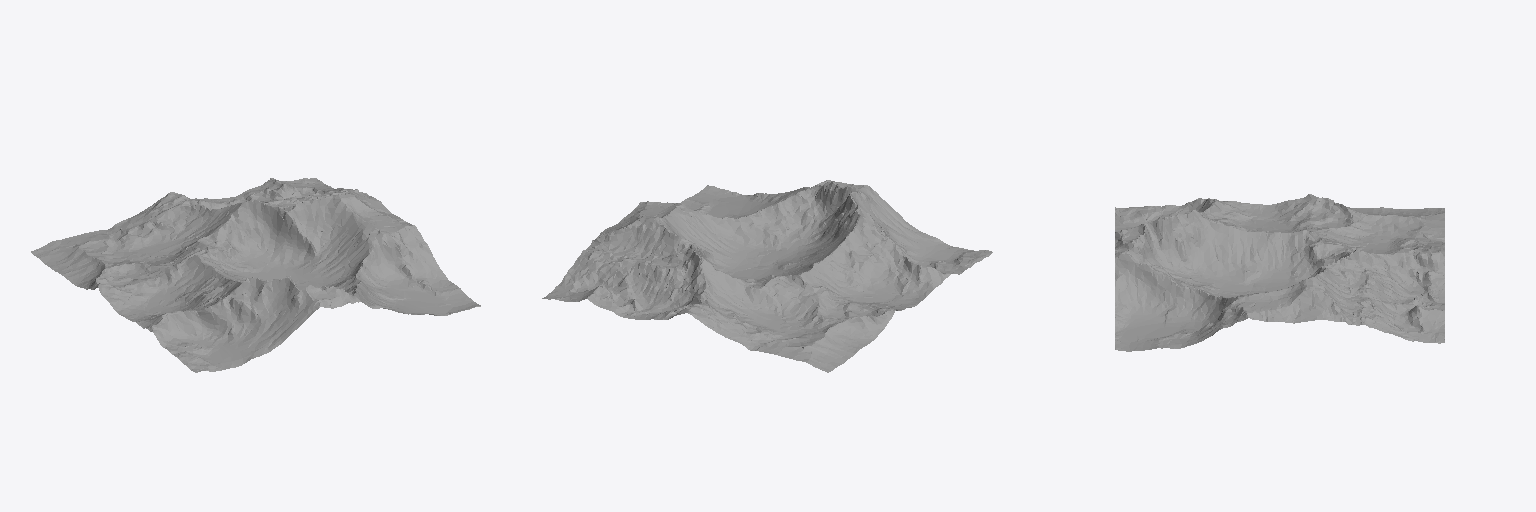
Rendered from terrain0.obj.
The picture shows the model from 3 angles: view 1: azimuth 30°, elevation 25°; view 2: azimuth 150°, elevation 25°; view 3: azimuth 270°, elevation 25°; orthographic projection.
Visible parts, largest first — view 1: terrain_8842eed260aa4dad81773d51ca9066fb; view 2: terrain_8842eed260aa4dad81773d51ca9066fb; view 3: terrain_8842eed260aa4dad81773d51ca9066fb.
Part boxes in pixels (left/top/right/bottom): terrain_8842eed260aa4dad81773d51ca9066fb: left=31, top=178, right=480, bottom=372; terrain_8842eed260aa4dad81773d51ca9066fb: left=542, top=180, right=992, bottom=372; terrain_8842eed260aa4dad81773d51ca9066fb: left=1115, top=194, right=1444, bottom=351.
Bounding box in the file's own units: 156 × 27.64 × 156.